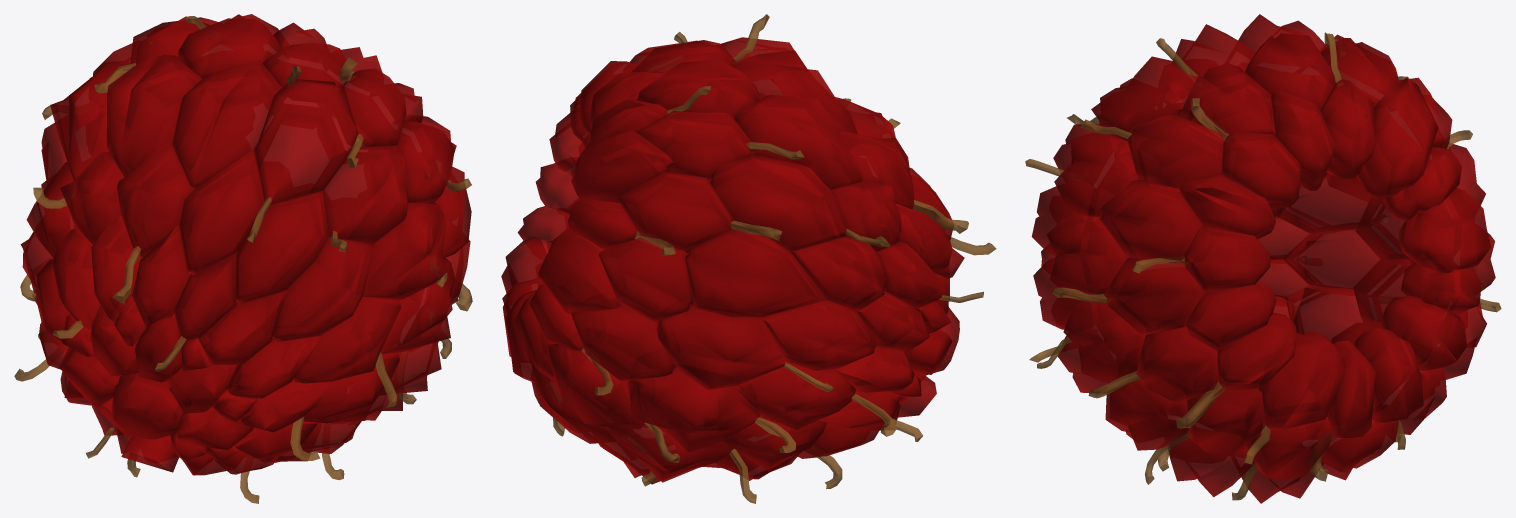
File: Rapsberry1.dae
3 views of the same model, side by side, from view 1: azimuth 30°, elevation 25°; view 2: azimuth 150°, elevation 25°; view 3: azimuth 270°, elevation 25° (orthographic). The views are drawn at different scales.
Visible parts, largest first — view 1: rapsber155; view 2: rapsber155; view 3: rapsber155.
Boxes of the visible parts, <box> form: rapsber155: <box>14,14,472,503</box>; rapsber155: <box>501,14,996,503</box>; rapsber155: <box>1025,14,1501,503</box>.
Size of the model in its own units: 24.05 by 22.6 by 22.85.
